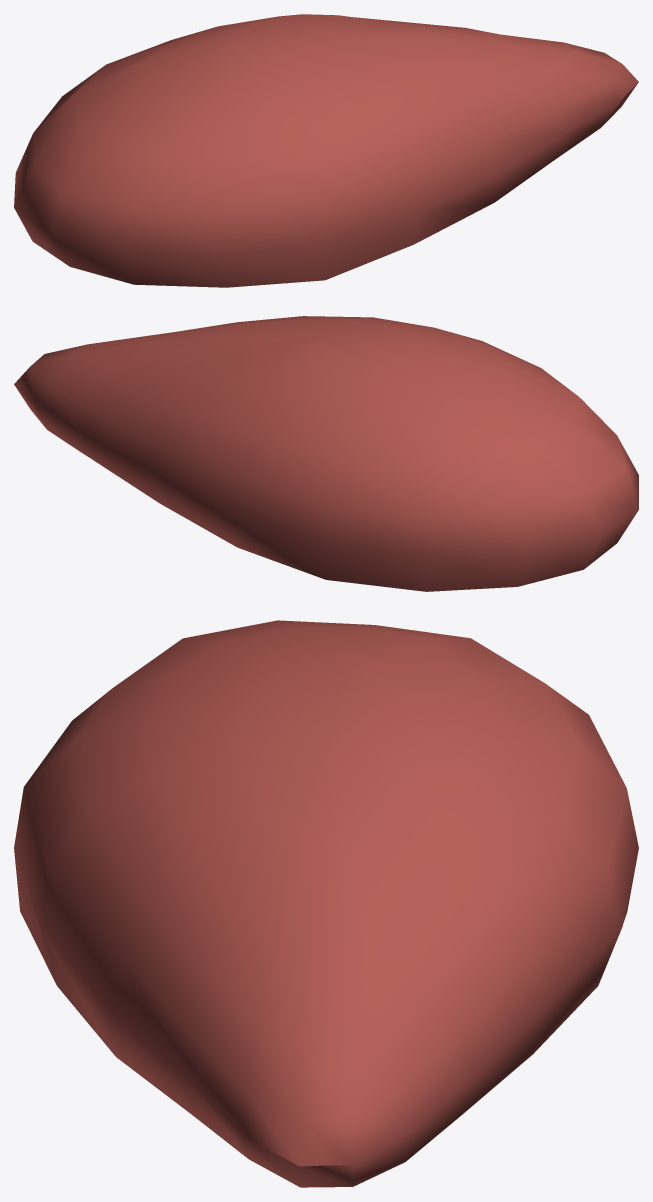
File: heath_grouse_breast.glb
3 renders of one model, top to bottom at view 1: azimuth 30°, elevation 25°; view 2: azimuth 150°, elevation 25°; view 3: azimuth 270°, elevation 25°, orthographic. The views are drawn at different scales.
Visible parts, largest first — view 1: heath_grouse_breast; view 2: heath_grouse_breast; view 3: heath_grouse_breast.
Part boxes in pixels (x1,y1,x2,y2): heath_grouse_breast: [14, 14, 638, 287]; heath_grouse_breast: [14, 316, 638, 591]; heath_grouse_breast: [14, 620, 638, 1187].
Bounding box in the file's own units: 0.09 × 0.025 × 0.05.
